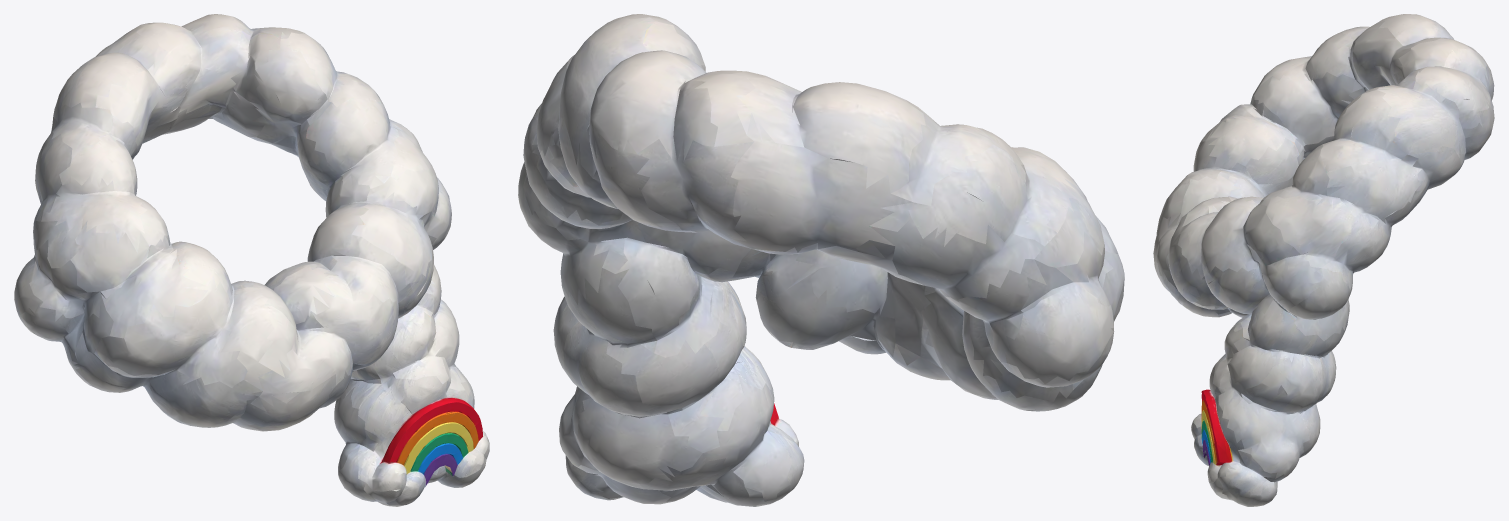
File: cloud_scarf.glb
3 views of the same model, side by side, from view 1: azimuth 30°, elevation 25°; view 2: azimuth 150°, elevation 25°; view 3: azimuth 270°, elevation 25° (orthographic). The views are drawn at different scales.
Parts seen in each view (by area): view 1: Mesh_0; view 2: Mesh_0; view 3: Mesh_0.
Boxes of the visible parts, x1,y1,x2,y2 form: Mesh_0: (14, 14, 489, 506); Mesh_0: (518, 14, 1124, 506); Mesh_0: (1153, 14, 1494, 506).
Bounding box in the file's own units: 1 × 0.9529 × 0.7803.
Materials: 1 (1 with a texture image).
